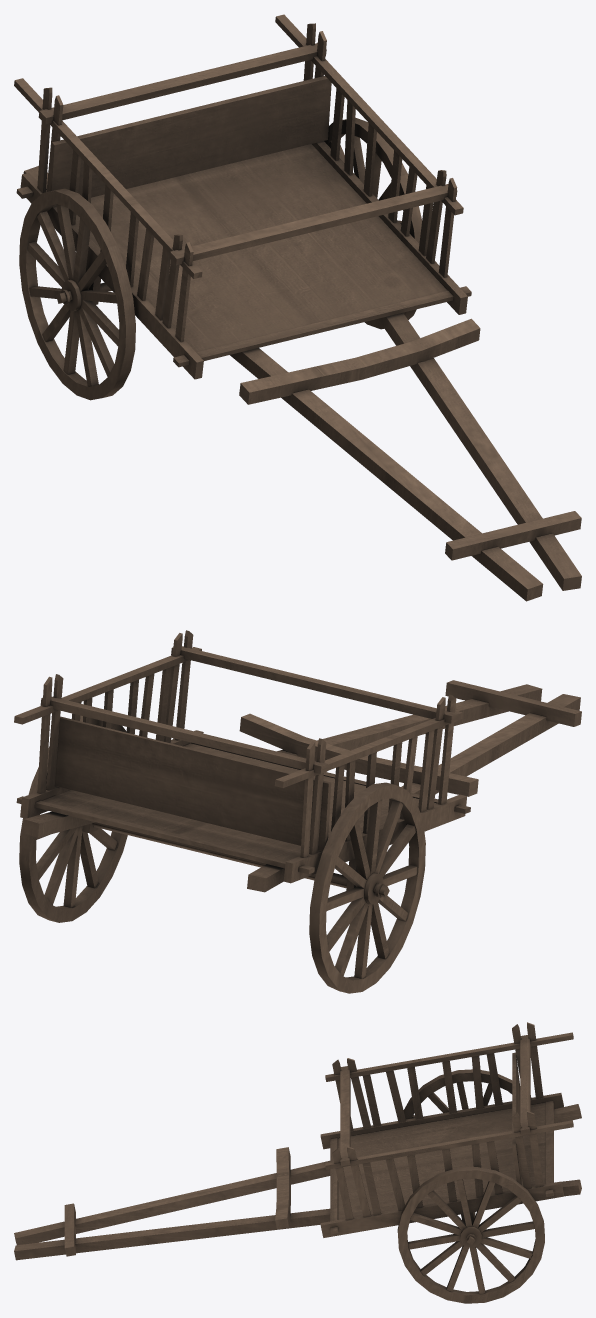
File: Wagon.fbx
The picture shows the model from 3 angles, top to bottom: view 1: azimuth 30°, elevation 25°; view 2: azimuth 150°, elevation 25°; view 3: azimuth 270°, elevation 25°; orthographic projection. The views are drawn at different scales.
Parts seen in each view (by area): view 1: Shape019; view 2: Shape019; view 3: Shape019.
Part boxes in pixels (x1,y1,x2,y2): Shape019: (14,14,581,601); Shape019: (14,630,581,993); Shape019: (14,1022,581,1303).
Size of the model in its own units: 90.47 by 71.21 by 197.
